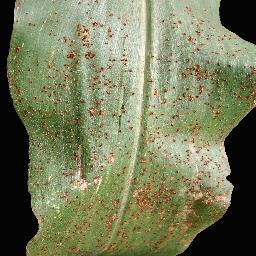Corn_Common_Rust: (9, 0, 256, 256)
